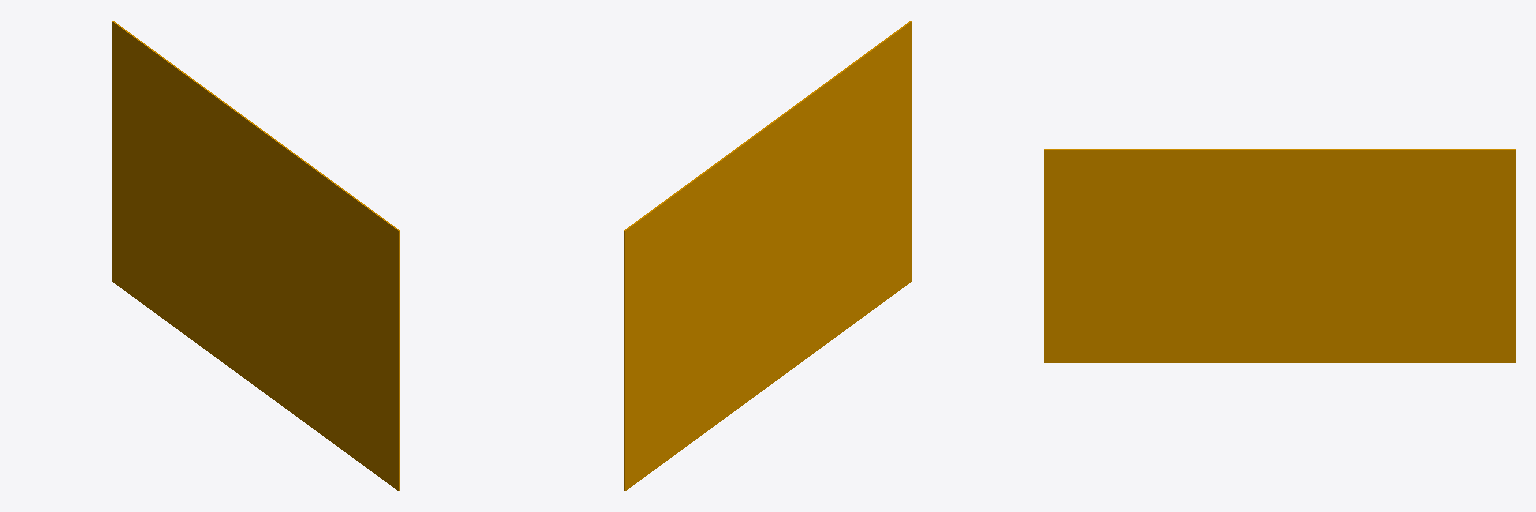
URDF robot description (front_wall):
<?xml version='1.0' encoding='UTF-8'?>
<robot name="front_wall">
  <link name="base_link">
    <inertial>
      <origin xyz="0.0 0.0 0.0" rpy="0.0 -0.0 0.0"/>
      <mass value="1.0"/>
      <inertia ixx="1.0" ixy="0.0" ixz="0.0" iyy="1.0" iyz="0.0" izz="1.0"/>
    </inertial>
    <visual name="base_link_visual">
      <geometry>
        <box size="0.1 32 16"/>
      </geometry>
      <origin xyz="0 8.0 -8.0" rpy="3.14159 3.14159 0"/>
    </visual>
    <collision name="base_link_collision">
      <geometry>
        <box size="0.1 32 16"/>
      </geometry>
      <origin xyz="0 8.0 -8.0" rpy="3.14159 3.14159 0"/>
    </collision>
  </link>
</robot>

--- Facts derived from the render (not from the file) ---
The picture shows the robot from 3 angles, left to right: view 1: azimuth 30°, elevation 25°; view 2: azimuth 150°, elevation 25°; view 3: azimuth 270°, elevation 25°; orthographic projection.
Robot: front_wall — 1 links, 0 joints (none); root link base_link; default pose: every joint at zero.
Visible links, largest first — view 1: base_link; view 2: base_link; view 3: base_link.
Boxes of the visible links, x1,y1,x2,y2 form: base_link: [112, 21, 399, 490]; base_link: [624, 21, 911, 490]; base_link: [1044, 149, 1515, 362].
Bounding box of the posed robot: 0.1 × 32 × 16 m (x, y, z).
Geometry: primitives only (box / cylinder / sphere), no mesh files.